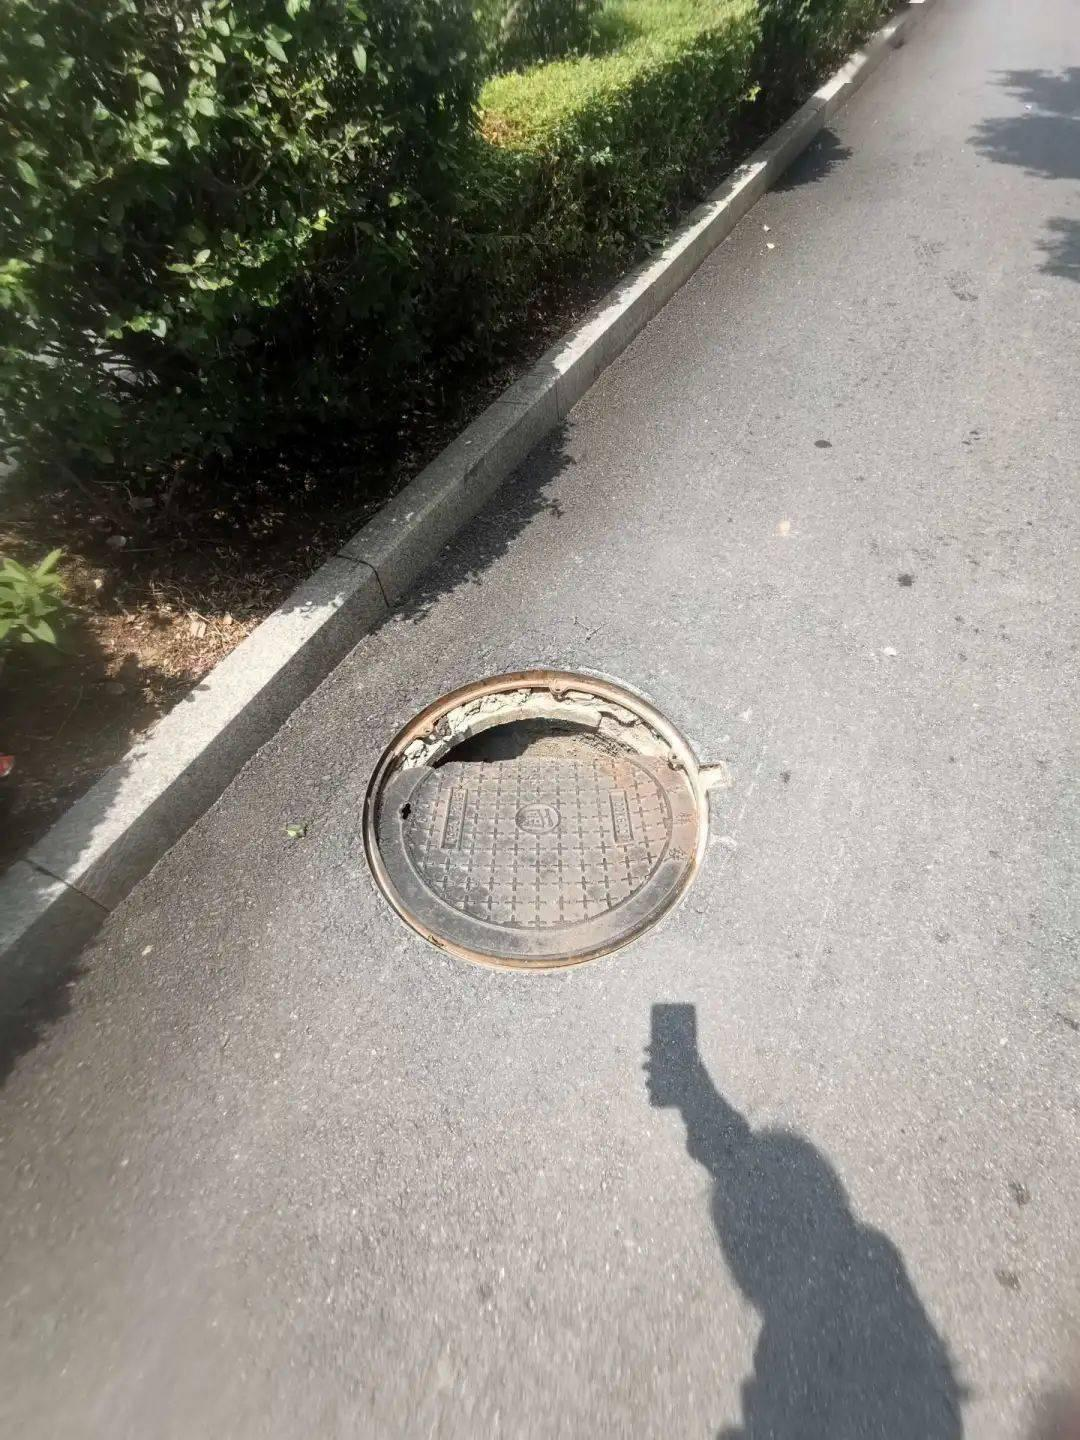wellcover: (354, 628, 780, 1003)
